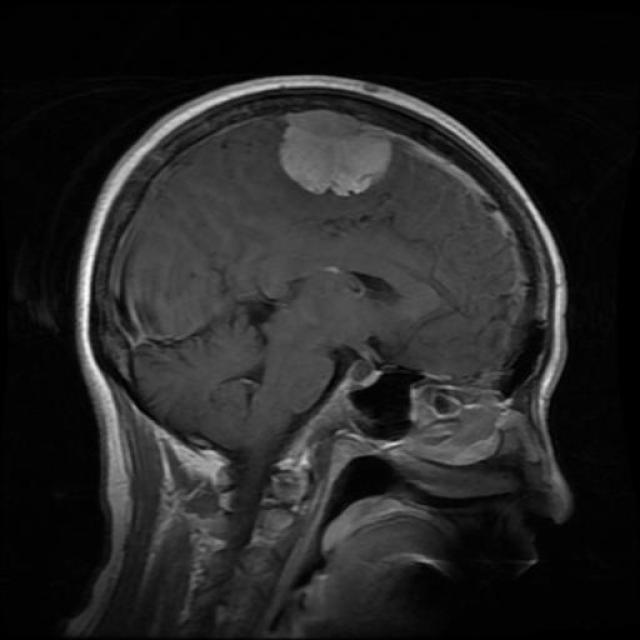meningioma: (280, 111, 391, 196)
